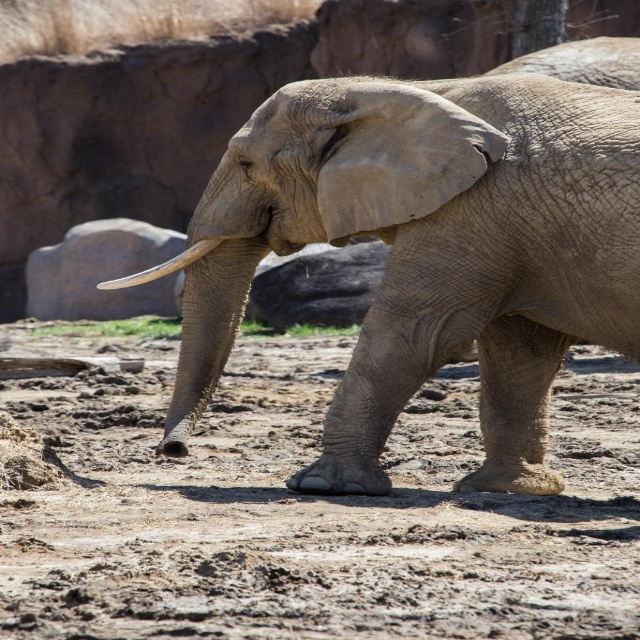Elephant: (64, 72, 636, 502)
